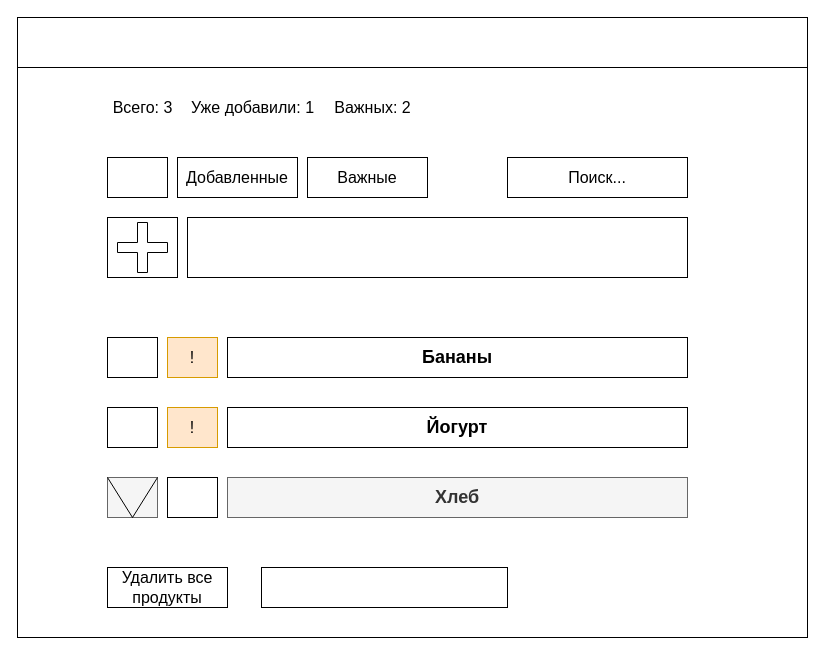
Image size: 825x655. Some labels were removed from this diagram. The shapes that lost their labels are listed below. From the top down, each one's centre as x and y in pixels, then its label:
[412,42]: ПРИЛОЖЕНИЕ ПО ДОБАВЛЕНИЮ ПРОДУКТОВ В СПИСОК ПОКУПОК
[137,177]: Все
[437,247]: Добавить новый продукт...
[384,587]: Удалить последний добавленный продукт
